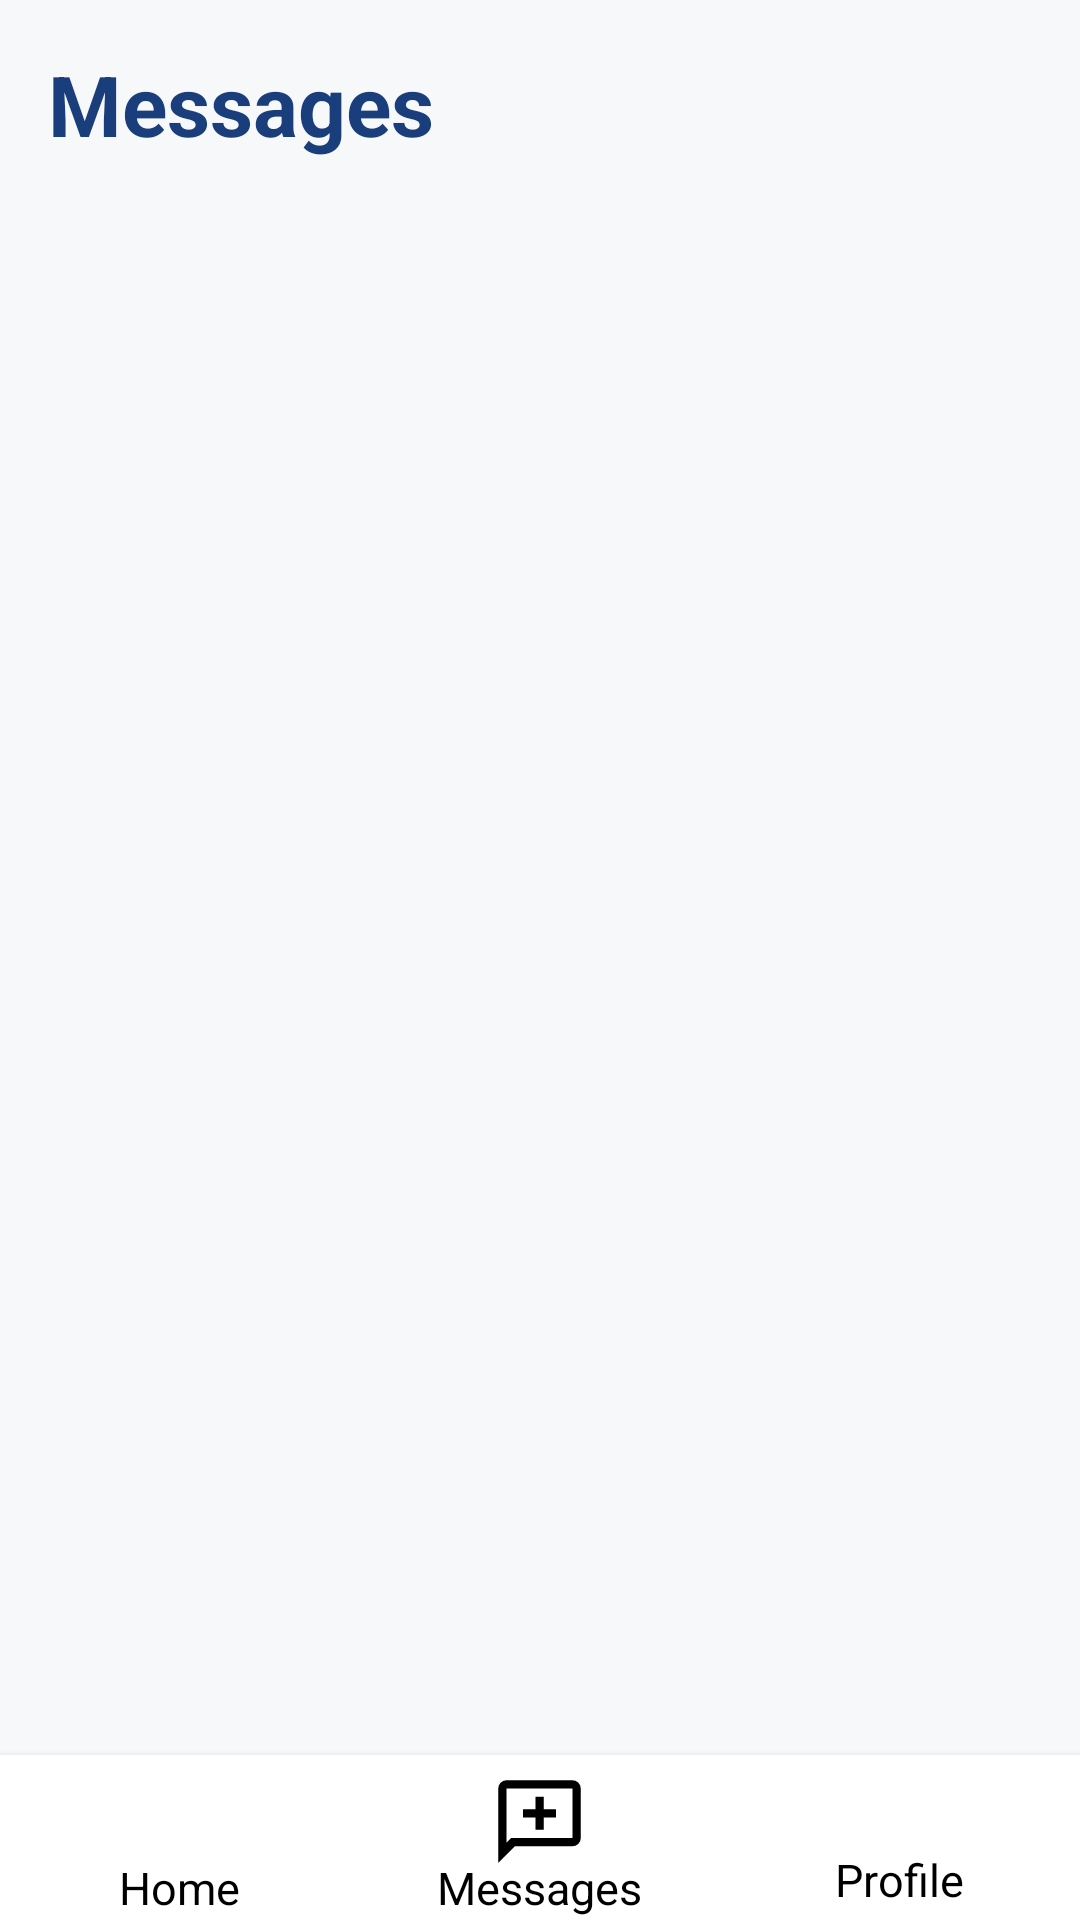

Icons on this 1080 x 1920 Android screen, each with its box as BBox(x1, y1, x2, y2):
add comment: BBox(498, 1780, 581, 1863)
